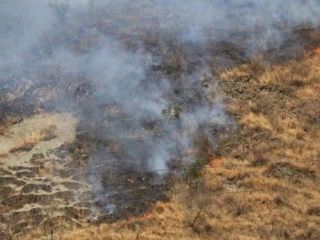smoke: (56, 33, 240, 221)
